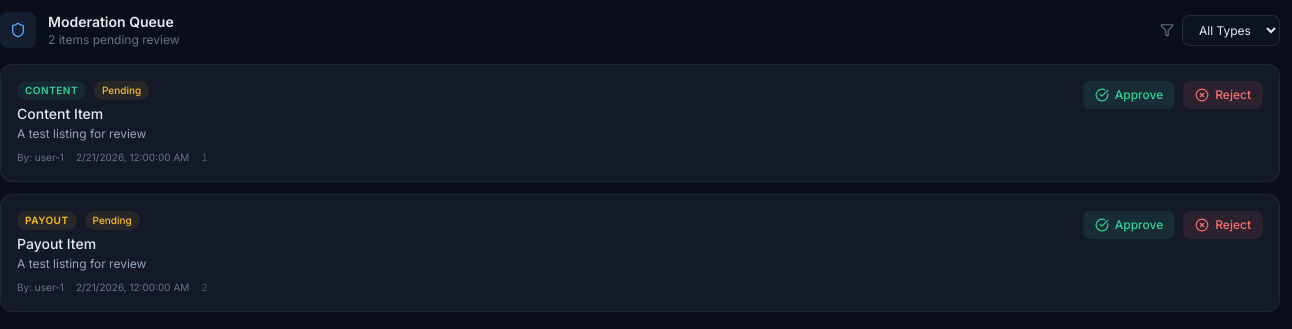
ModerationQueue › can filter by content type
Select "Content" in the dropdown showing "All Types" at (1231, 30), box [1182,14,1280,46]
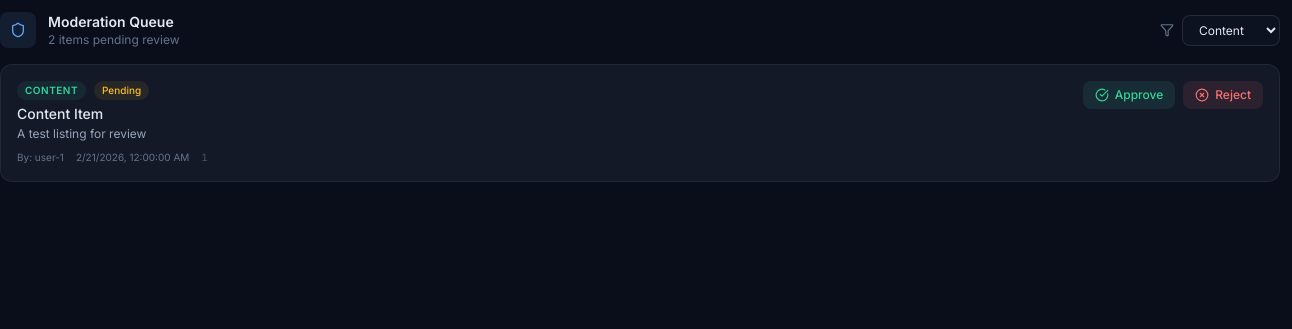
Expected: the heading "Content Item" is shown, [17,105,103,122]
Expected: the heading "Payout Item" is gone
